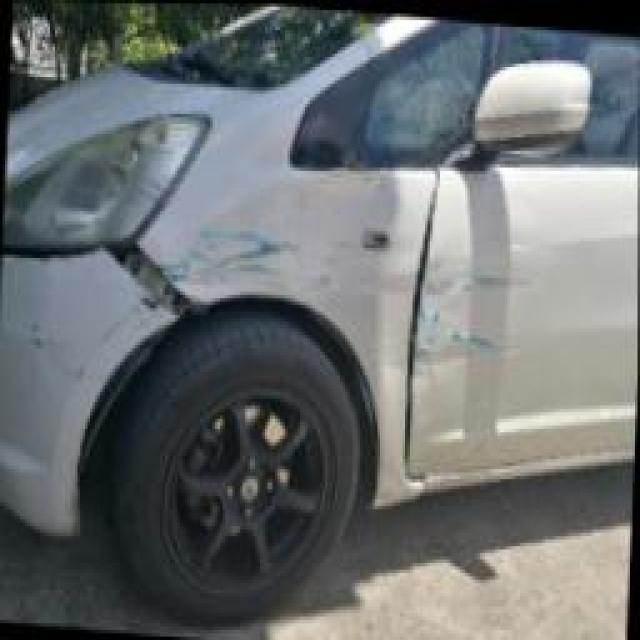Bumper: (0, 242, 173, 559)
Door: (410, 188, 570, 486)
Fender: (140, 160, 445, 510)
